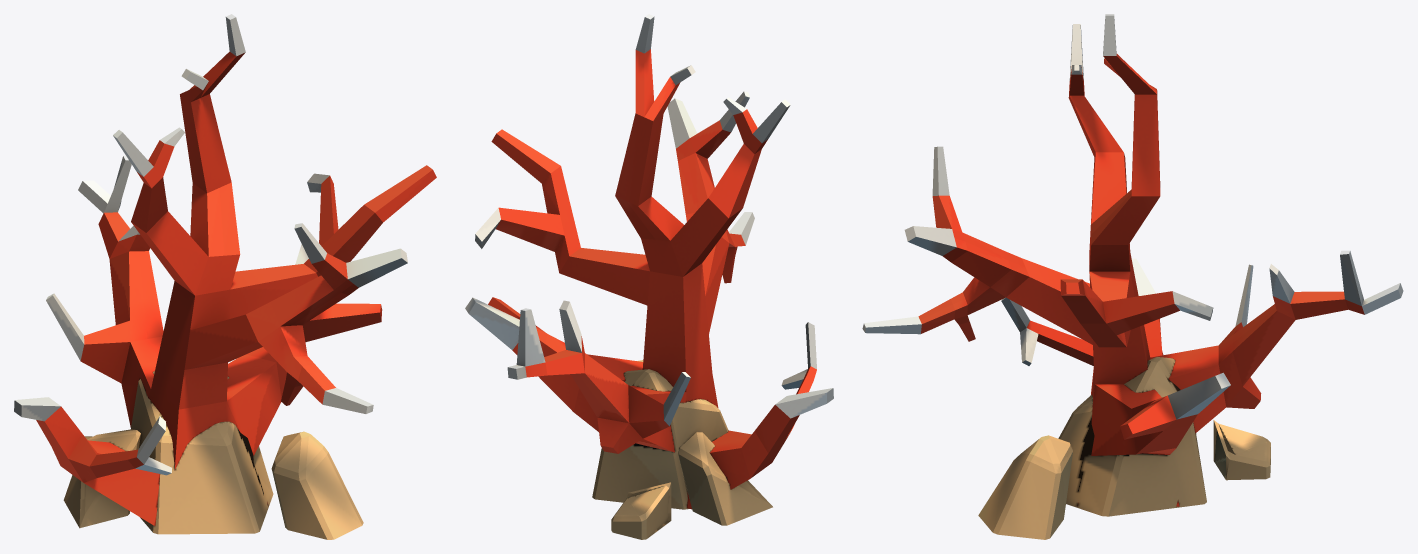
The model's file is Coral_01.gltf.
3 views of the same model, side by side, from view 1: azimuth 30°, elevation 25°; view 2: azimuth 150°, elevation 25°; view 3: azimuth 270°, elevation 25° (orthographic). The views are drawn at different scales.
Parts seen in each view (by area): view 1: coral; view 2: coral; view 3: coral.
Part boxes in pixels (left/top/right/bottom): coral: left=14, top=14, right=436, bottom=539; coral: left=465, top=14, right=833, bottom=539; coral: left=862, top=14, right=1403, bottom=539.
Size of the model in its own units: 1.33 by 1.59 by 1.61.
1 material, 1 textured.
